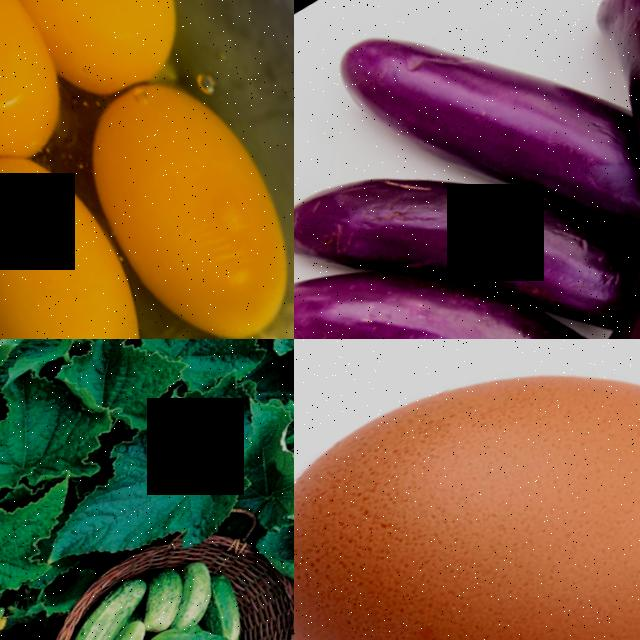cucumber: (35, 577, 156, 640), (161, 559, 213, 616), (163, 624, 233, 640)
egg_: (294, 339, 640, 640), (40, 52, 294, 339), (0, 133, 171, 339), (0, 0, 212, 128)
eggplant: (313, 0, 580, 207), (294, 108, 500, 319), (294, 221, 465, 339), (563, 0, 640, 209)
